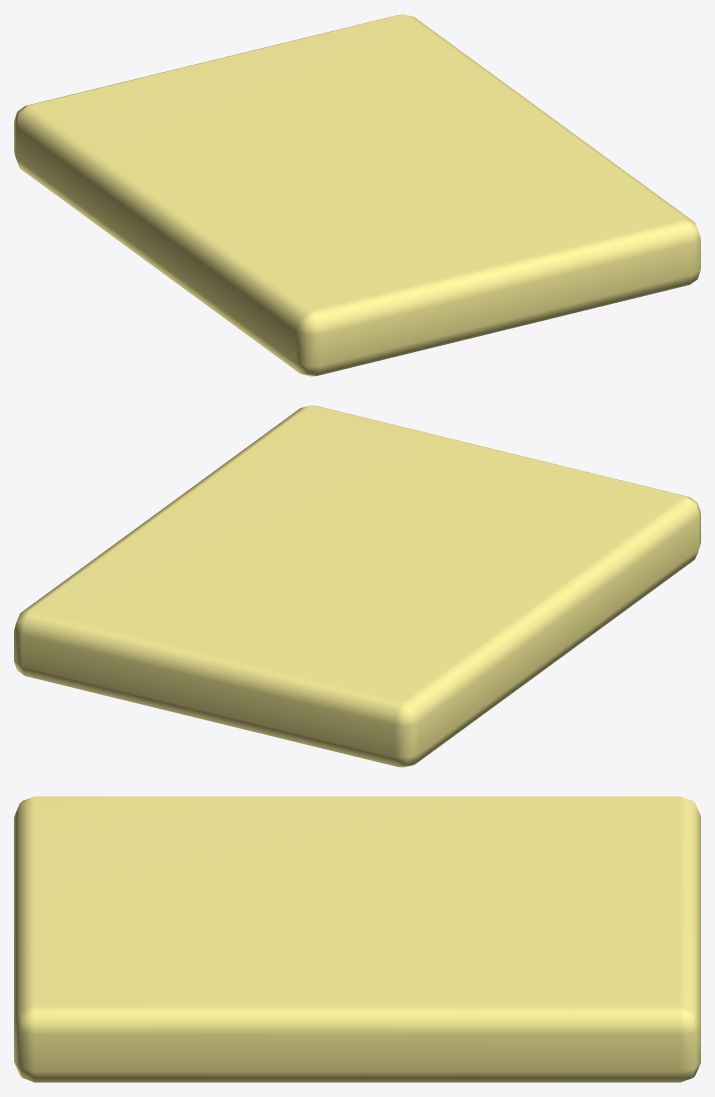
Rendered from Town_16_Pillow_1.glb.
3 views of the same model, one above another, from view 1: azimuth 30°, elevation 25°; view 2: azimuth 150°, elevation 25°; view 3: azimuth 270°, elevation 25° (orthographic). The views are drawn at different scales.
Parts seen in each view (by area): view 1: Town_16_Pillow_1; view 2: Town_16_Pillow_1; view 3: Town_16_Pillow_1.
Part boxes in pixels (x1,y1,x2,y2): Town_16_Pillow_1: (14,14,700,376); Town_16_Pillow_1: (14,405,700,767); Town_16_Pillow_1: (14,796,700,1082).
Size of the model in its own units: 0.9927 by 0.1564 by 1.27.
Materials: 1 (1 with a texture image).
